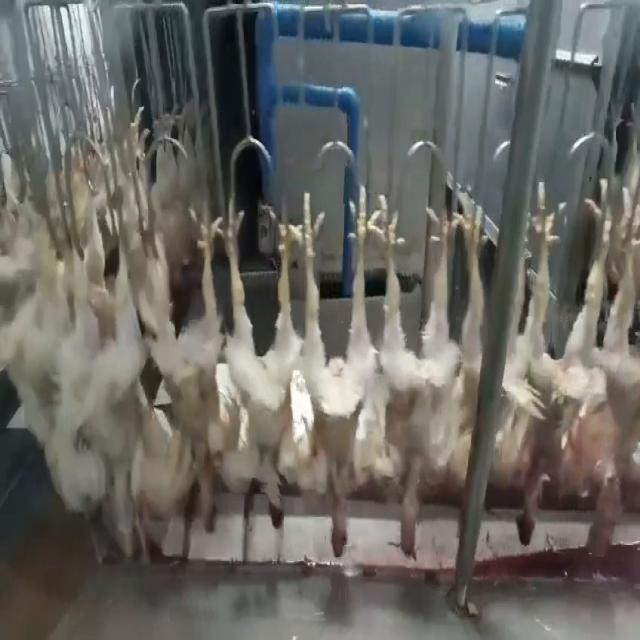chicken: (130, 201, 226, 538), (377, 197, 466, 559), (220, 202, 300, 541), (305, 173, 371, 560), (573, 173, 639, 559), (514, 174, 574, 547), (70, 212, 130, 543), (446, 191, 502, 507)
